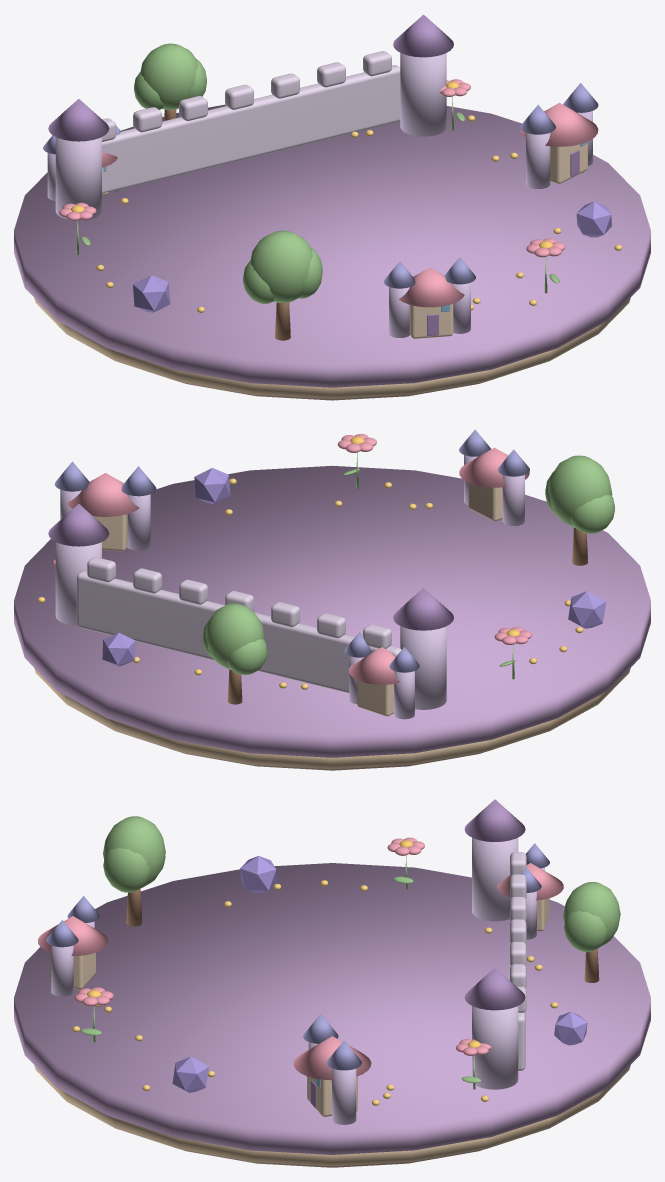
The model's file is world.glb.
3 views of the same model, one above another, from view 1: azimuth 30°, elevation 25°; view 2: azimuth 150°, elevation 25°; view 3: azimuth 270°, elevation 25° (orthographic).
Parts seen in each view (by area): view 1: Cone, Cube, Cone.001, castle.003, castle.001, tree.002, tree.001, Cone.005, Cone.003, Cone.006, Cone.004, gem.002 (+11 smaller); view 2: Cone, Cube, Cone.001, castle.001, tree.002, castle.003, castle.002, tree.001, Cone.003, Cone.005, Cone.004, Cone.006 (+12 smaller); view 3: Cone, Cone.001, castle.001, tree.002, castle.003, tree.001, Cone.005, Cone.003, castle.002, Cone.004, Cone.006, gem.002 (+6 smaller).
Part boxes in pixels (x1=…): Cone: x1=14, y1=104, x2=650, y2=387; Cube: x1=102, y1=65, x2=400, y2=193; Cone.001: x1=34, y1=297, x2=630, y2=399; castle.003: x1=384, y1=257, x2=475, y2=338; castle.001: x1=520, y1=83, x2=598, y2=188; tree.002: x1=243, y1=230, x2=322, y2=340; tree.001: x1=134, y1=43, x2=206, y2=120; Cone.005: x1=400, y1=53, x2=446, y2=136; Cone.003: x1=55, y1=137, x2=101, y2=220; Cone.006: x1=393, y1=14, x2=453, y2=57; Cone.004: x1=48, y1=99, x2=109, y2=141; gem.002: x1=133, y1=275, x2=170, y2=312; Cone: x1=14, y1=465, x2=650, y2=757; Cube: x1=76, y1=571, x2=401, y2=693; Cone.001: x1=34, y1=668, x2=630, y2=769; castle.001: x1=54, y1=461, x2=156, y2=551; tree.002: x1=545, y1=455, x2=614, y2=565; castle.003: x1=459, y1=429, x2=529, y2=525; castle.002: x1=344, y1=632, x2=419, y2=719; tree.001: x1=202, y1=603, x2=267, y2=704; Cone.003: x1=400, y1=626, x2=446, y2=709; Cone.005: x1=55, y1=542, x2=101, y2=625; Cone.004: x1=393, y1=588, x2=453, y2=630; Cone.006: x1=48, y1=504, x2=109, y2=546; Cone: x1=14, y1=863, x2=650, y2=1154; Cone.001: x1=34, y1=1065, x2=630, y2=1166; castle.001: x1=293, y1=1014, x2=371, y2=1124; tree.002: x1=103, y1=816, x2=165, y2=926; castle.003: x1=38, y1=896, x2=108, y2=996; tree.001: x1=563, y1=882, x2=620, y2=982; Cone.005: x1=472, y1=1006, x2=518, y2=1089; Cone.003: x1=472, y1=837, x2=518, y2=921; castle.002: x1=497, y1=843, x2=563, y2=939; Cone.004: x1=464, y1=799, x2=525, y2=841; Cone.006: x1=464, y1=967, x2=525, y2=1010; gem.002: x1=240, y1=856, x2=276, y2=893.
Size of the model in its own units: 9.6 by 2.67 by 9.6.
